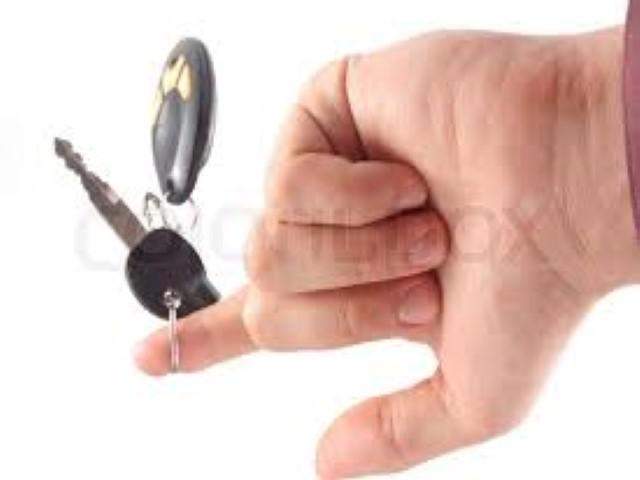key: (54, 135, 214, 214)
